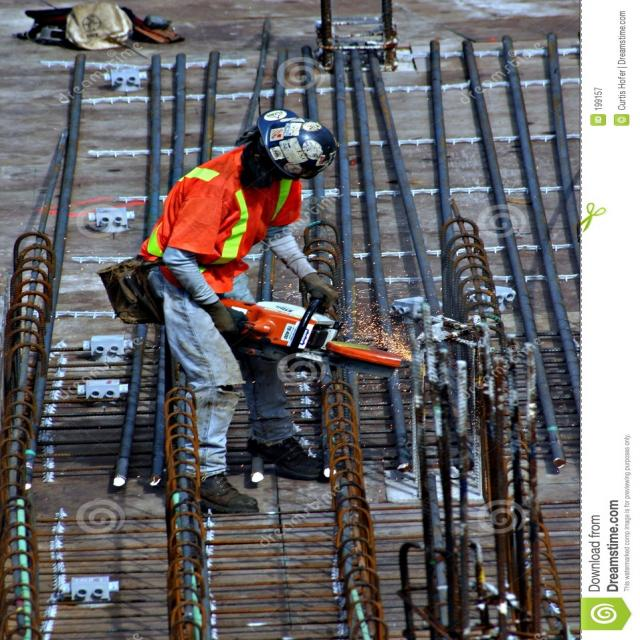Reflective-Jacket: (137, 144, 301, 278)
Safety-Helmet: (246, 104, 345, 180)
